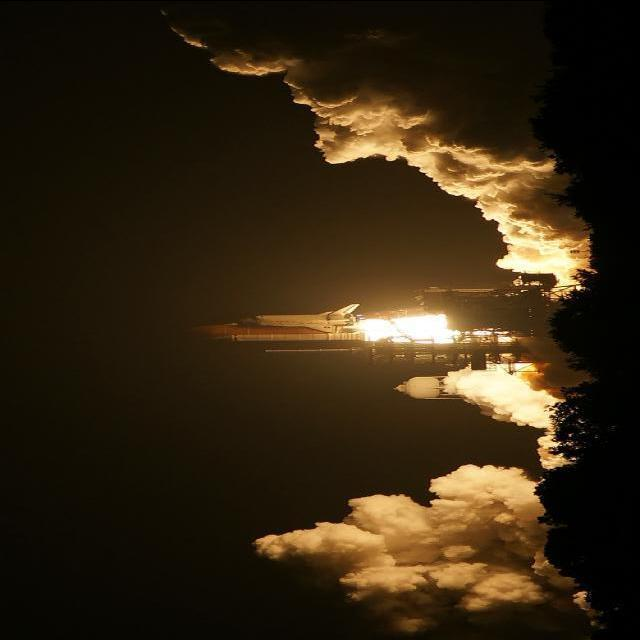Missile: (211, 331, 365, 342)
